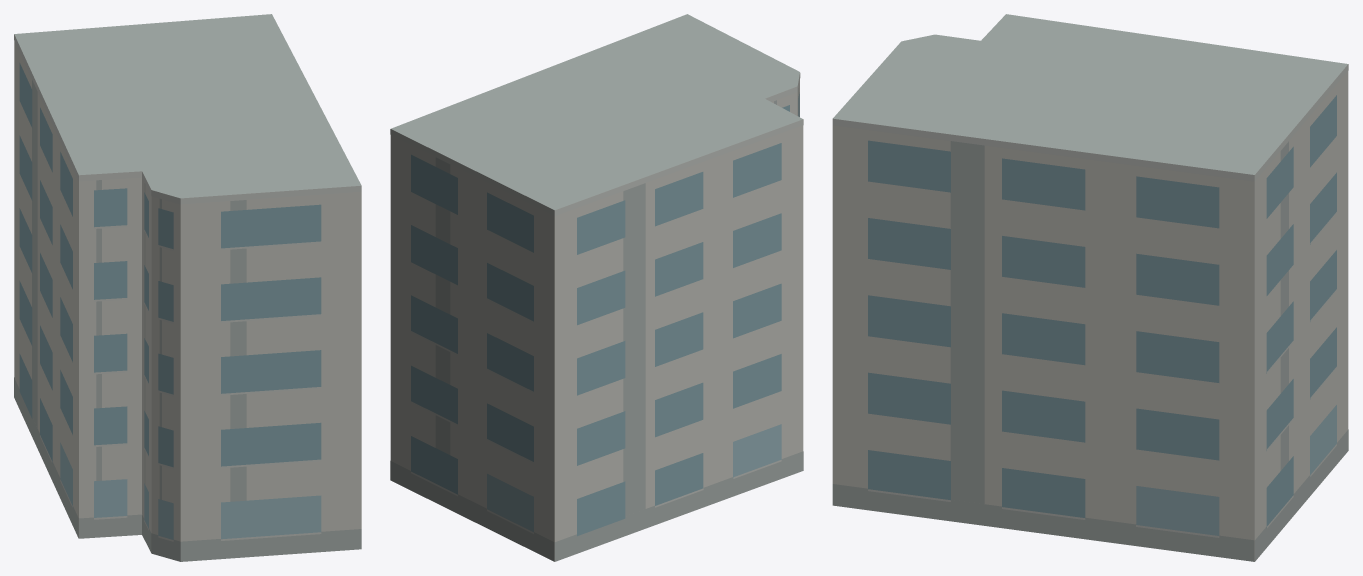
Rendered from survey-upis-32894340.glb.
3 views of the same model, side by side, from view 1: azimuth 30°, elevation 25°; view 2: azimuth 150°, elevation 25°; view 3: azimuth 270°, elevation 25° (orthographic). The views are drawn at different scales.
Parts seen in each view (by area): view 1: survey-upis-32894340.tmp; view 2: survey-upis-32894340.tmp; view 3: survey-upis-32894340.tmp.
Boxes of the visible parts, left/top/right/bottom form: survey-upis-32894340.tmp: left=14, top=14, right=361, bottom=561; survey-upis-32894340.tmp: left=390, top=14, right=803, bottom=561; survey-upis-32894340.tmp: left=832, top=14, right=1348, bottom=561.
Size of the model in its own units: 12.82 by 14.35 by 17.35.
